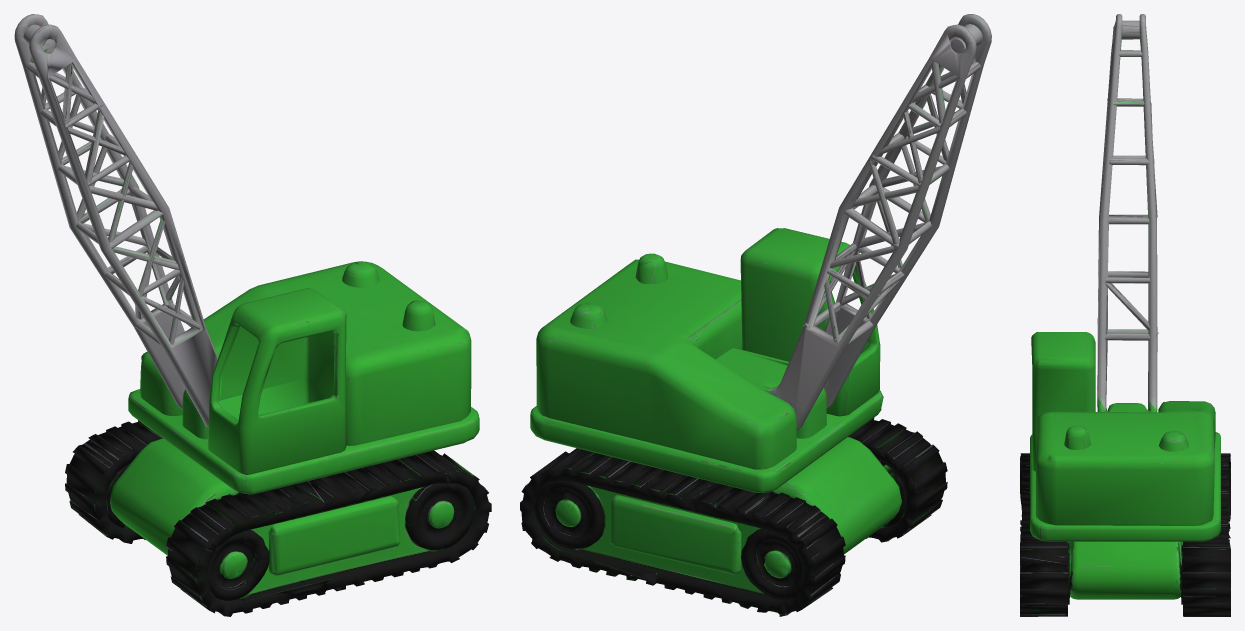
File: veh-wrecker.glb
The picture shows the model from 3 angles, left to right: view 1: azimuth 30°, elevation 25°; view 2: azimuth 150°, elevation 25°; view 3: azimuth 270°, elevation 25°; orthographic projection. The views are drawn at different scales.
Size of the model in its own units: 0.7329 by 1 by 0.4103.
Materials: 1 (1 with a texture image).
